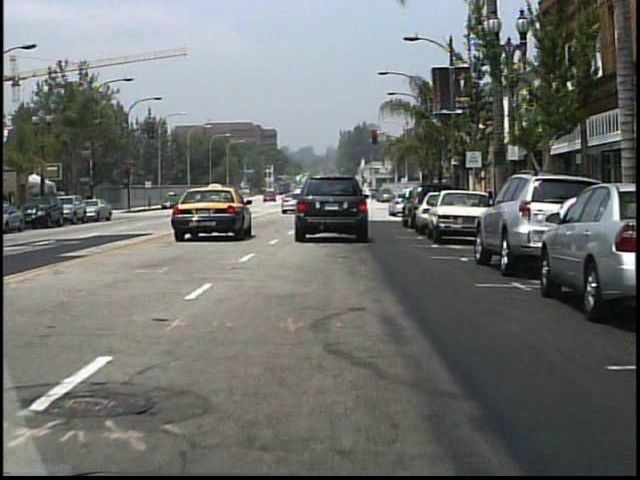person: (343, 189, 358, 213), (202, 188, 216, 212)
